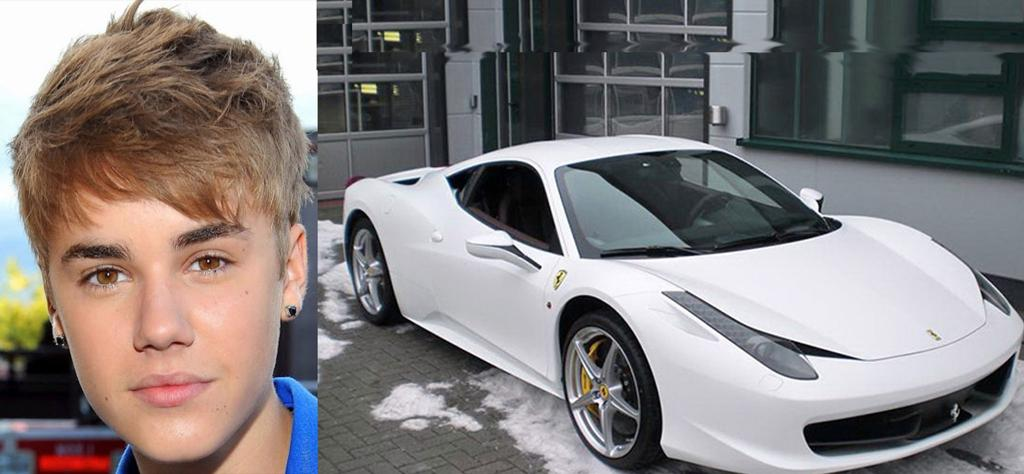face: (44, 164, 280, 462)
